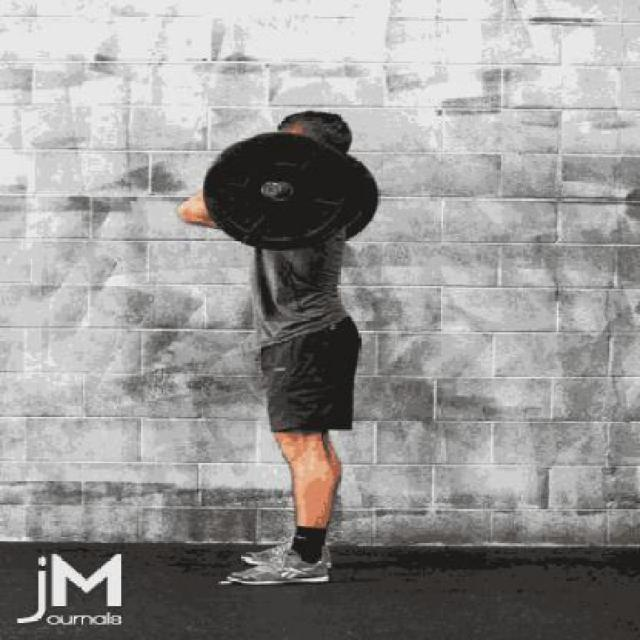barbell: (199, 127, 356, 255)
